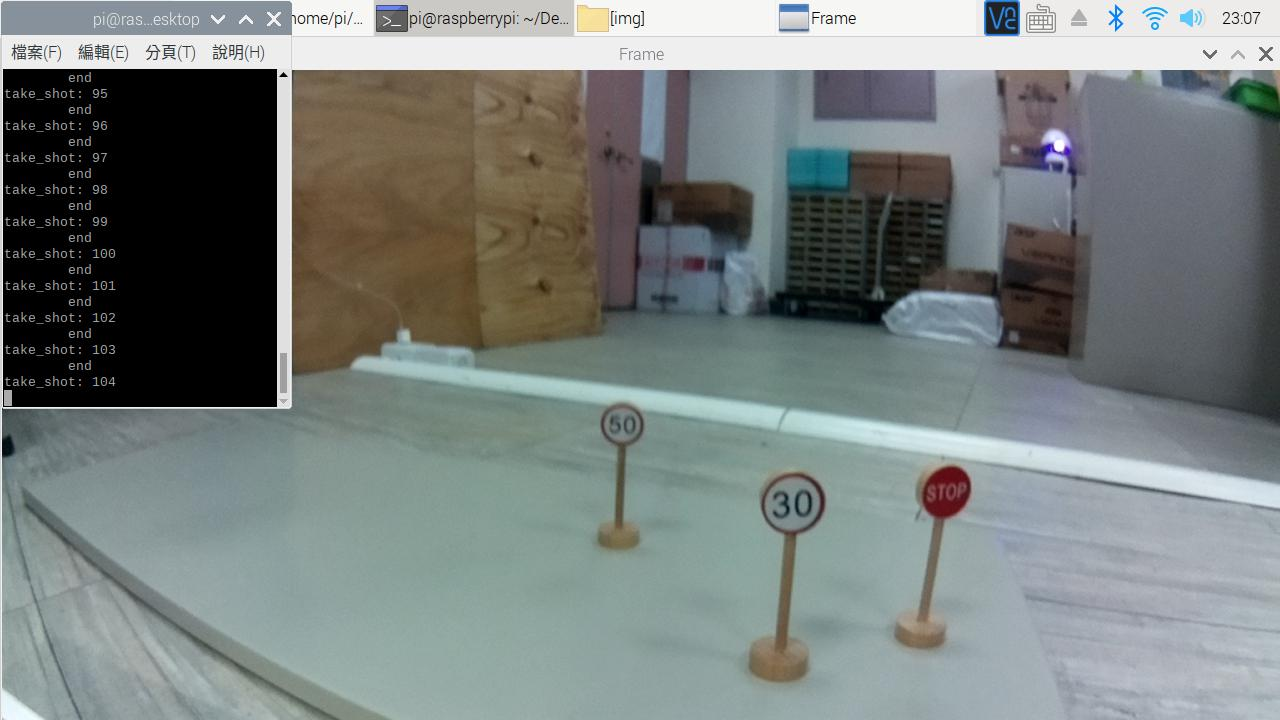Speed30: (760, 457, 827, 543)
Speed50: (594, 394, 655, 452)
Stop: (911, 456, 982, 536)
